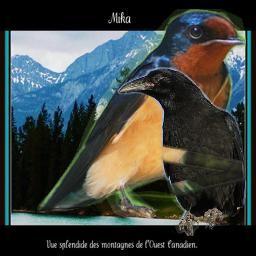Crow: (117, 67, 247, 236)
Swallow: (37, 9, 246, 218)
